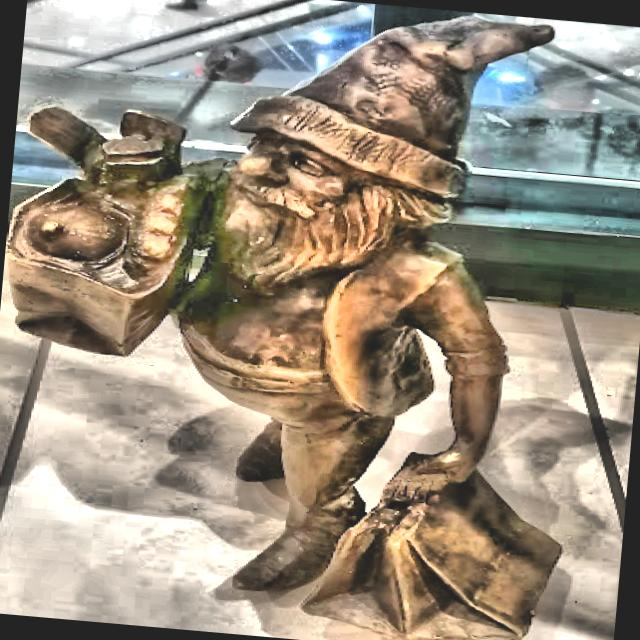Trendus: (8, 16, 561, 640)
